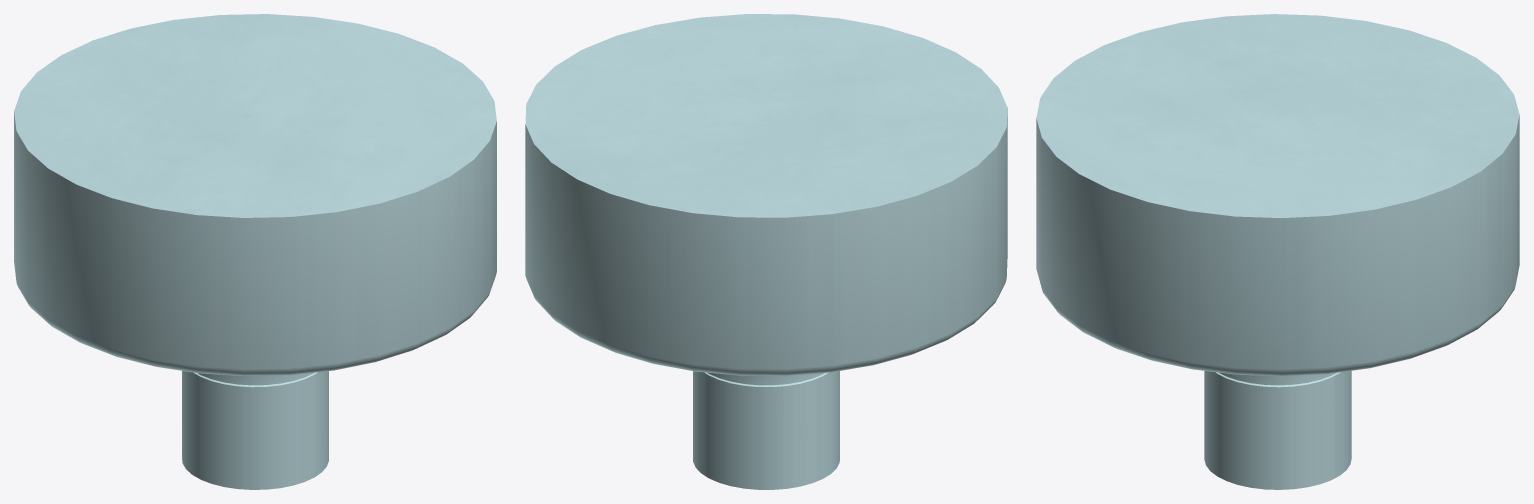
The model's file is studyroom_28.obj.
The picture shows the model from 3 angles, left to right: view 1: azimuth 30°, elevation 25°; view 2: azimuth 150°, elevation 25°; view 3: azimuth 270°, elevation 25°; orthographic projection.
Size of the model in its own units: 0.2118 by 0.1658 by 0.2118.
